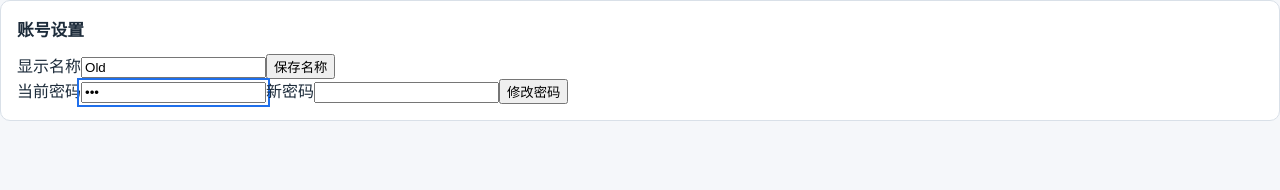
ProfilePanel › shows an error when the current password is wrong
The width and height of the screenshot is (1280, 190).
Earlier steps of the test are not shown.
Type "new-password" into the password field labelled "新密码" at (406, 93), box [314,82,499,103]
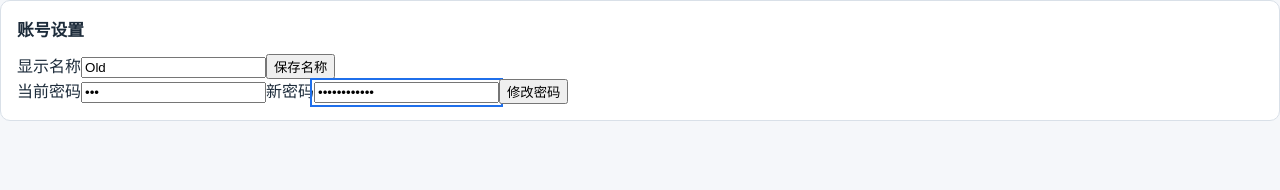
Click the button "修改密码" at (534, 92), box [499,79,568,104]
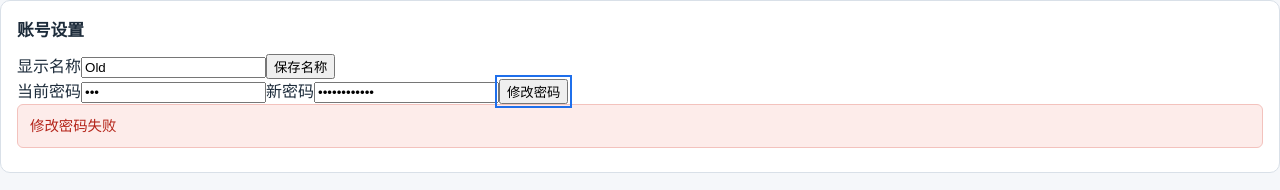
expect the message reads "修改密码失败": met, box [30,116,116,135]
